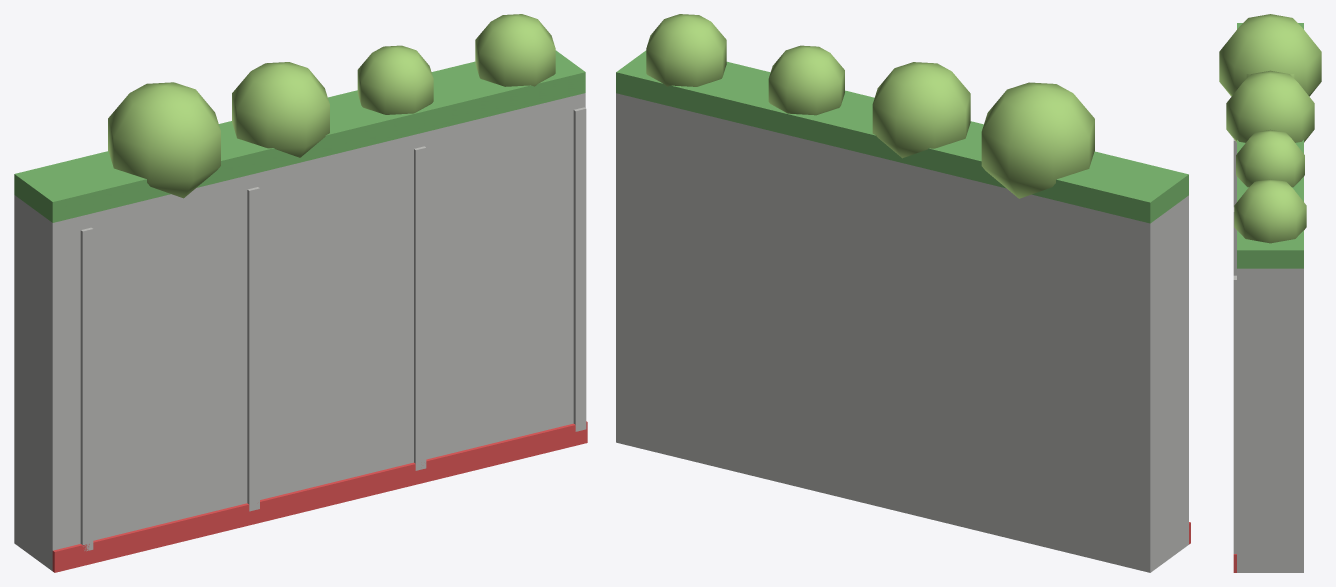
The model's file is SM_RetainingWall.fbx.
3 renders of one model, left to right at view 1: azimuth 30°, elevation 25°; view 2: azimuth 150°, elevation 25°; view 3: azimuth 270°, elevation 25°, orthographic. The views are drawn at different scales.
Parts seen in each view (by area): view 1: SM_RetainingWall; view 2: SM_RetainingWall; view 3: SM_RetainingWall.
Part boxes in pixels (box(x1,y1,x2,y2)): SM_RetainingWall: box(14, 14, 587, 572); SM_RetainingWall: box(616, 14, 1190, 572); SM_RetainingWall: box(1219, 14, 1321, 572).
Bounding box in the file's own units: 8 × 6.3 × 1.52.
